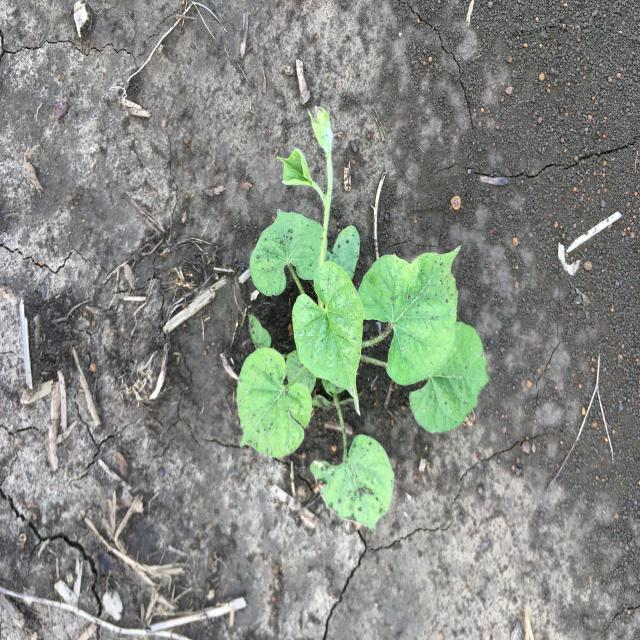MorningGlory: (236, 104, 491, 533)
